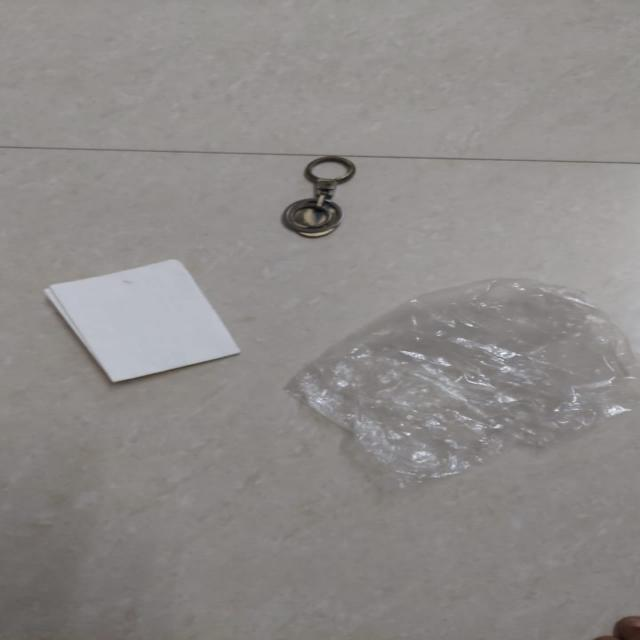metal: (280, 152, 359, 240)
paper: (39, 254, 248, 387)
plastic: (284, 274, 639, 492)
